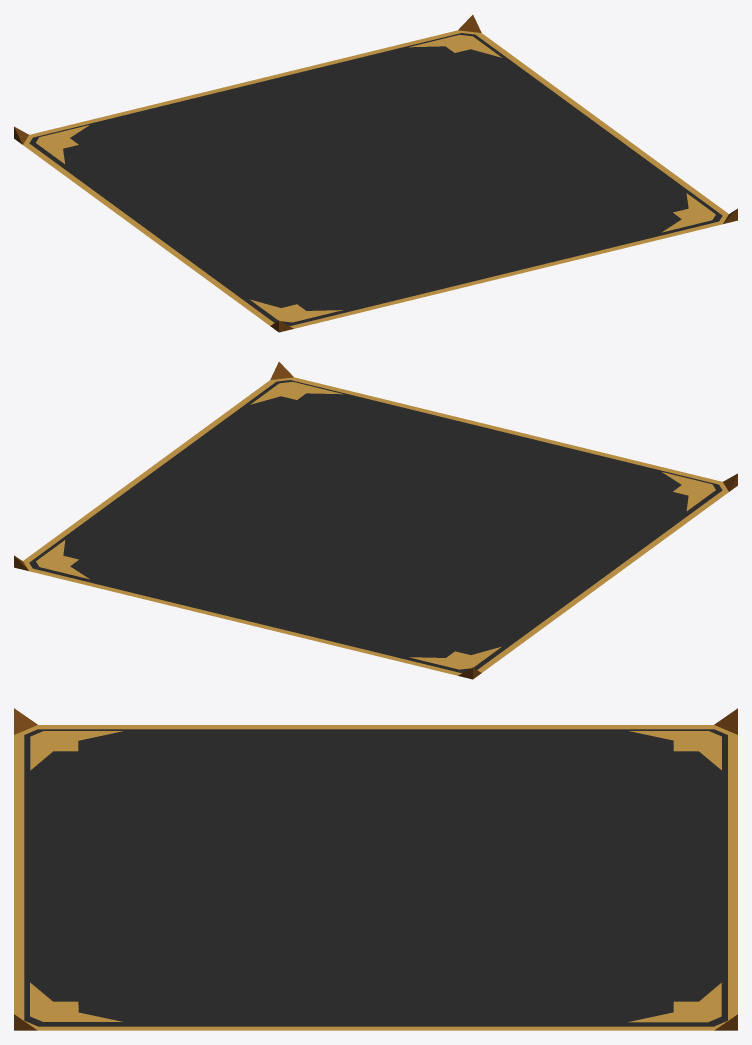
File: TILE_EMPTY.FBX
3 renders of one model, top to bottom at view 1: azimuth 30°, elevation 25°; view 2: azimuth 150°, elevation 25°; view 3: azimuth 270°, elevation 25°, orthographic. The views are drawn at different scales.
Visible parts, largest first — view 1: GRID_TILE_EMPTY; view 2: GRID_TILE_EMPTY; view 3: GRID_TILE_EMPTY.
Part boxes in pixels (x1,y1,x2,y2): GRID_TILE_EMPTY: [14, 15, 737, 332]; GRID_TILE_EMPTY: [14, 362, 737, 679]; GRID_TILE_EMPTY: [14, 708, 737, 1030].
Bounding box in the file's own units: 100 × 100 × 2.54.
